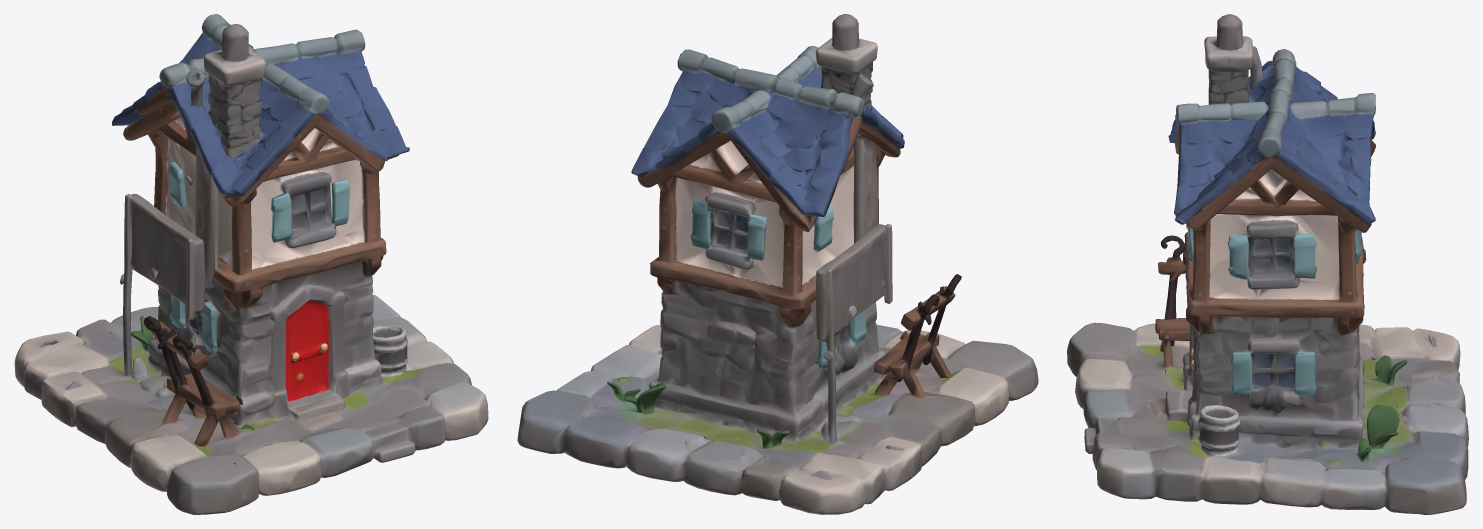
Rendered from moth-house.glb.
3 views of the same model, side by side, from view 1: azimuth 30°, elevation 25°; view 2: azimuth 150°, elevation 25°; view 3: azimuth 270°, elevation 25° (orthographic). The views are drawn at different scales.
Size of the model in its own units: 6.79 by 7.39 by 6.85.
1 material, 1 textured.
